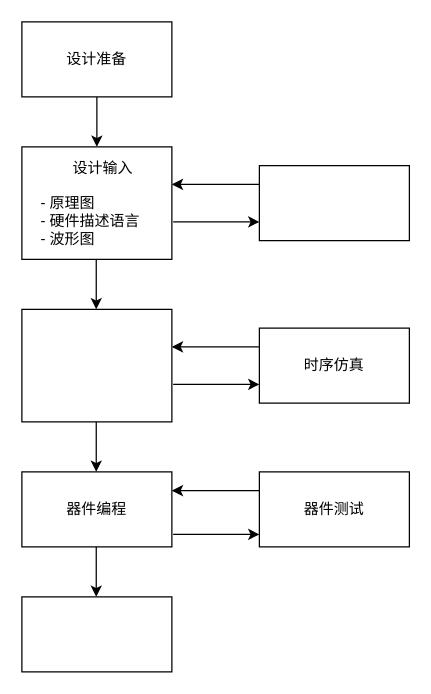
The diagram is 431 pixels wide and 694 high, and some of its shapes have lost their labels. Here are the shapes that lost their labels. From the top down, the box of each, then its label:
(258, 164, 409, 241): 功能仿真
(21, 308, 172, 422): 设计处理 - 优化、综合 - 适配、分割 - 布局、布线
(21, 596, 172, 672): 设计完成
